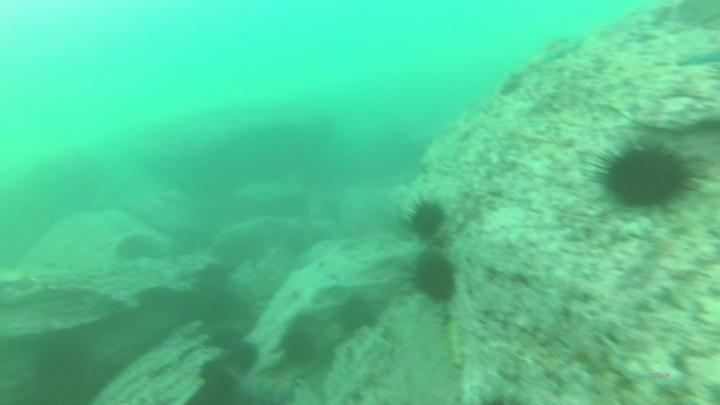echinus: (588, 141, 712, 213), (413, 249, 462, 306), (402, 198, 449, 240), (336, 297, 381, 334), (278, 328, 319, 368), (116, 234, 166, 263), (197, 358, 234, 394), (227, 342, 263, 379), (207, 325, 243, 352)
holothurian: (443, 313, 470, 374)
starfish: (265, 375, 304, 405)
